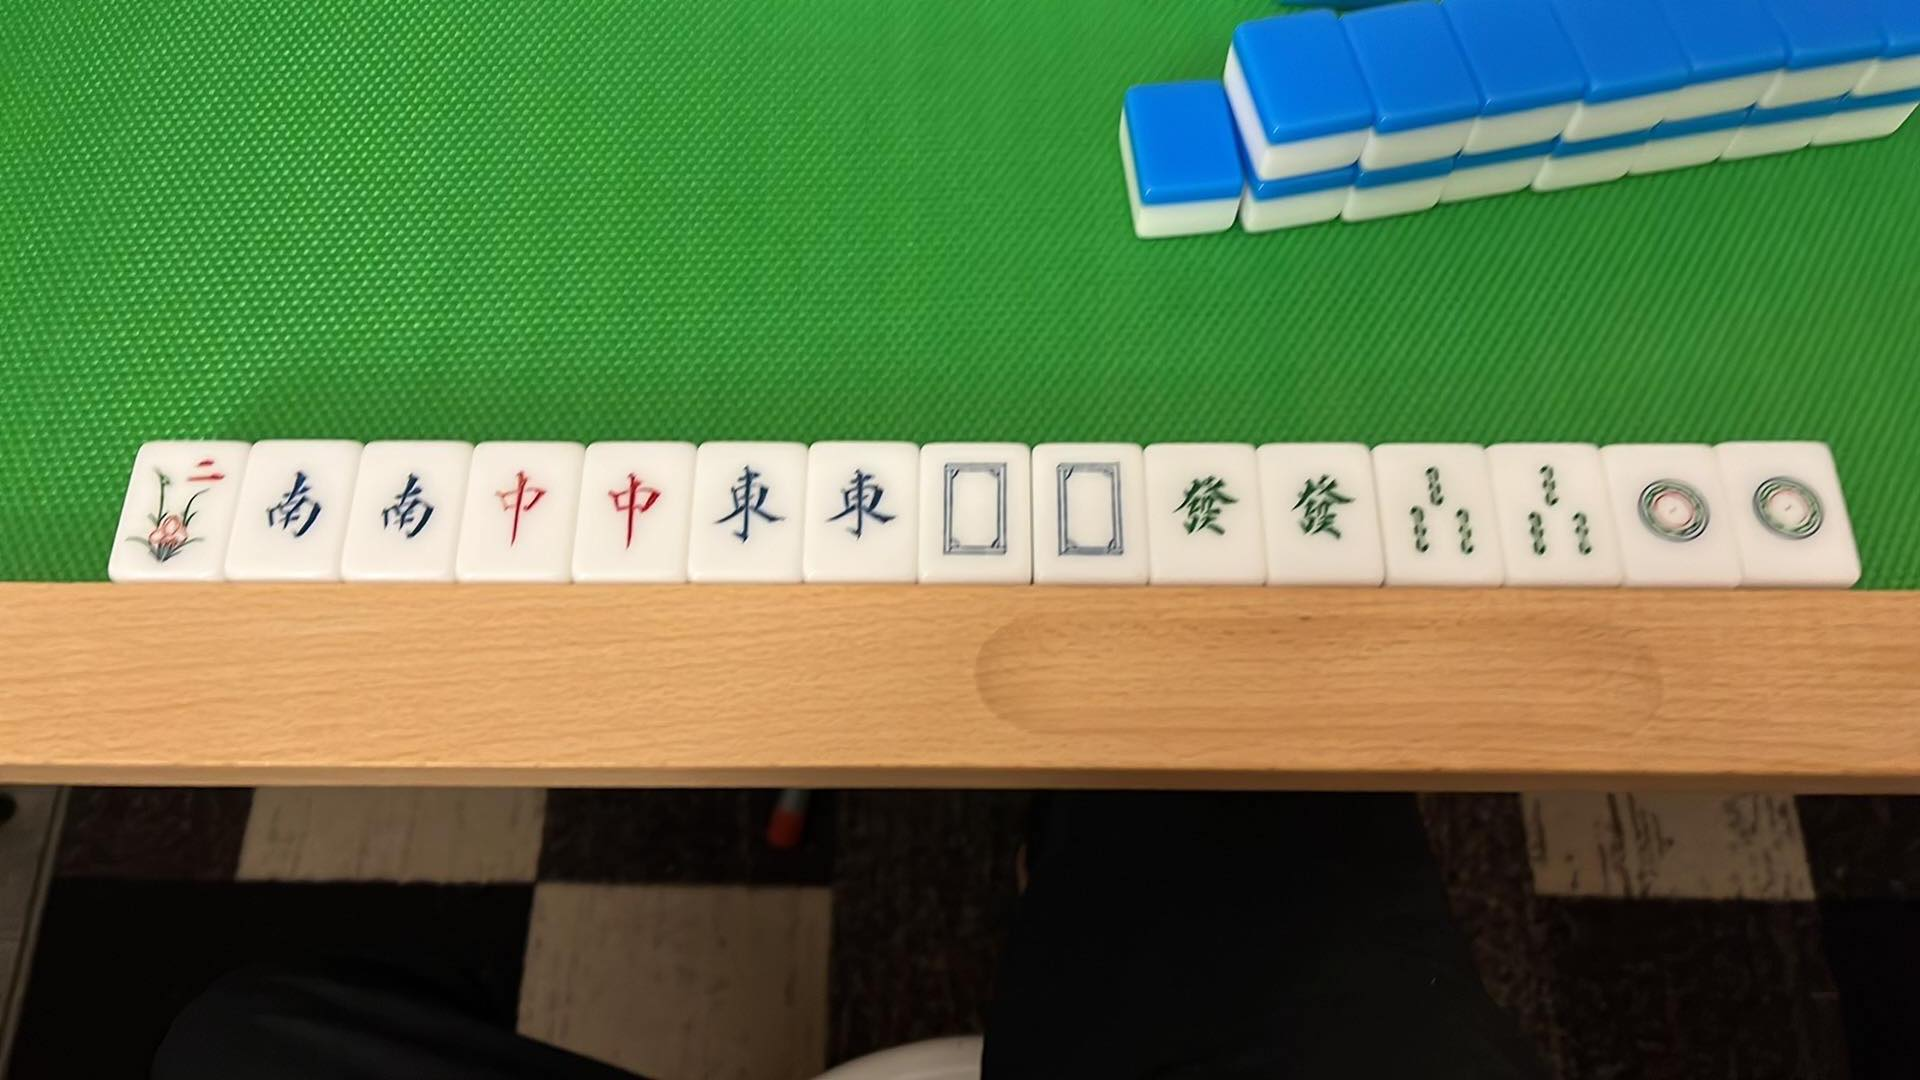bamboo-three: (1511, 454, 1609, 564), (1390, 458, 1489, 564)
circle-one: (1739, 459, 1837, 560), (1627, 458, 1722, 559)
flower-red_two: (125, 452, 229, 564)
honor-blue_dragon: (1042, 455, 1135, 567), (934, 448, 1021, 568)
honor-east_wind: (818, 456, 907, 564), (708, 454, 795, 564)
honor-green_dragon: (1280, 462, 1367, 556), (1162, 458, 1246, 554)
honor-red_dragon: (477, 456, 564, 564), (591, 458, 676, 566)
honor-south_wind: (363, 456, 451, 560), (256, 458, 339, 559)
